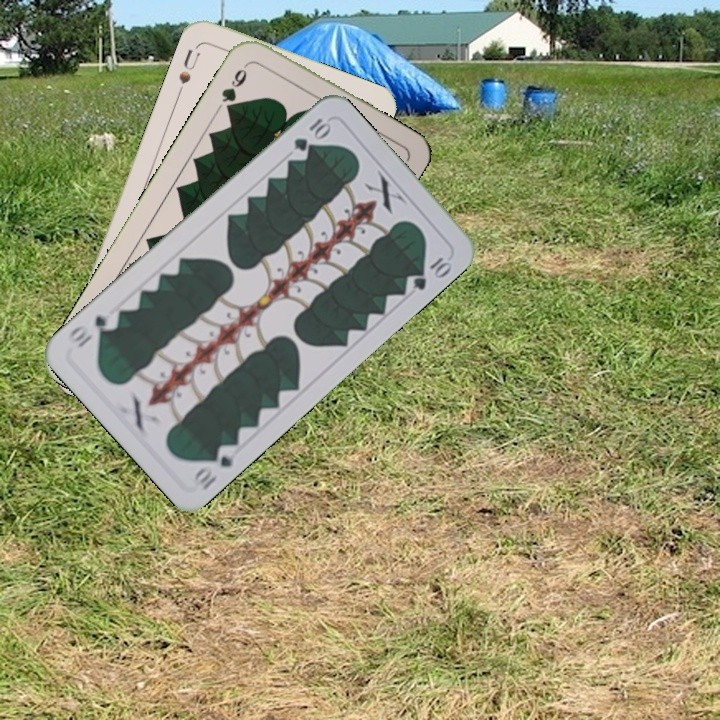G10: (187, 440, 241, 493), (289, 114, 334, 154)
G9: (217, 59, 252, 116)
SU: (173, 45, 203, 98)
